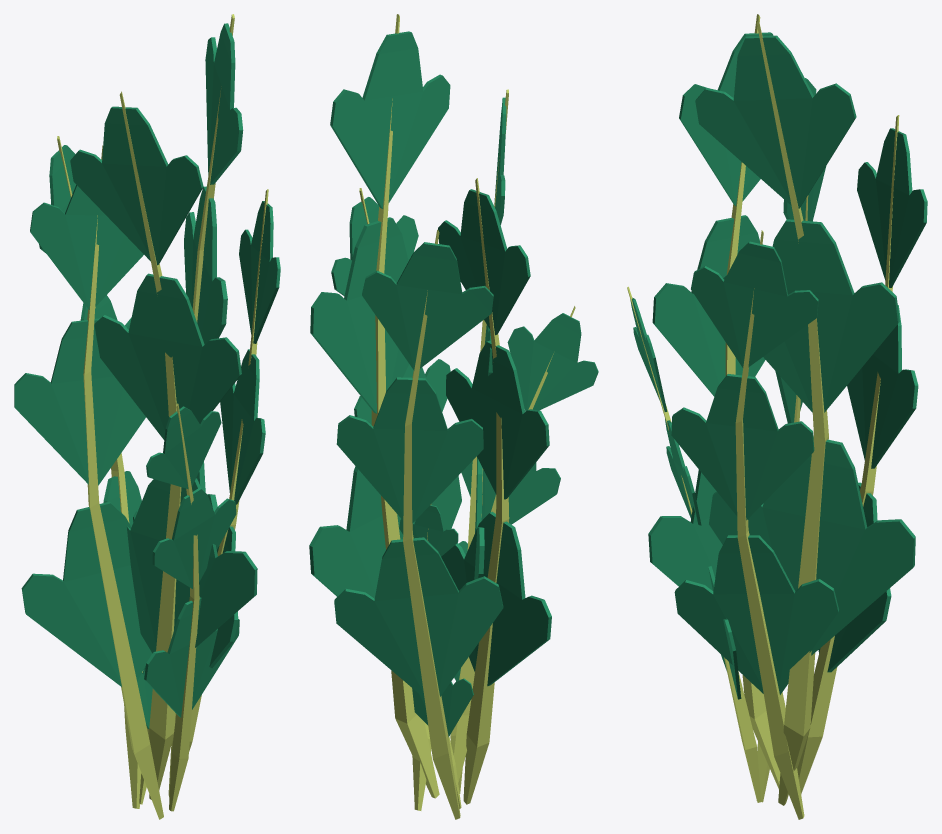
File: Carrot_8.fbx
The picture shows the model from 3 angles, left to right: view 1: azimuth 30°, elevation 25°; view 2: azimuth 150°, elevation 25°; view 3: azimuth 270°, elevation 25°; orthographic projection. The views are drawn at different scales.
Parts seen in each view (by area): view 1: 8_Carrot; view 2: 8_Carrot; view 3: 8_Carrot.
Part boxes in pixels (x1,y1,x2,y2): 8_Carrot: (14, 14, 280, 819); 8_Carrot: (309, 14, 598, 819); 8_Carrot: (627, 14, 927, 819).
Size of the model in its own units: 14.67 by 48.92 by 16.21.
